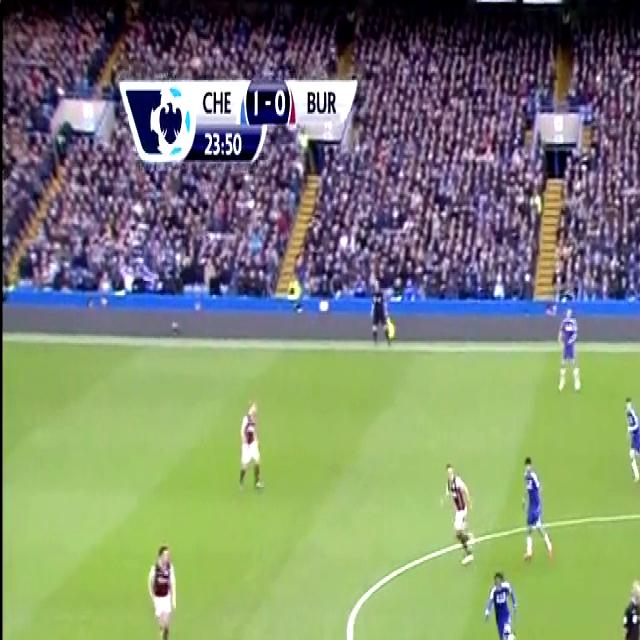referee: (364, 273, 398, 354), (615, 567, 640, 640)
soccer-player: (513, 445, 559, 569), (440, 451, 478, 569), (143, 530, 183, 640), (234, 391, 268, 504), (478, 556, 520, 640), (553, 301, 582, 396), (617, 386, 640, 492)
